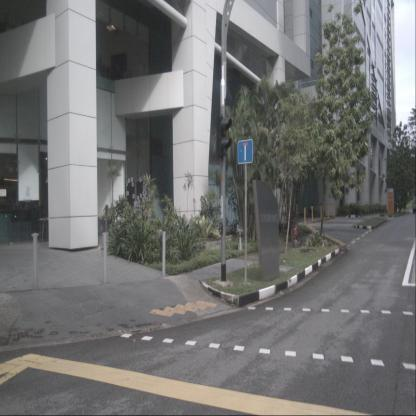human-pedestrian-adult: (99, 204, 109, 234), (108, 204, 116, 235)
vehicle-bicycle: (291, 217, 302, 248)
vehicle-car: (412, 201, 416, 215)
